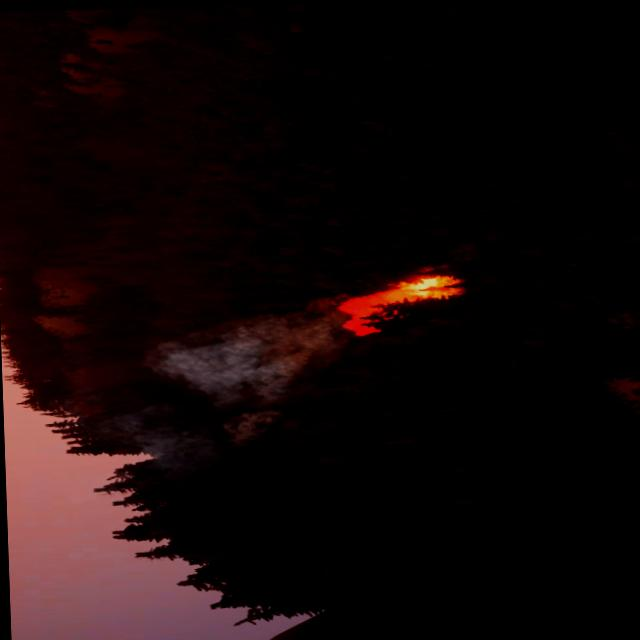fire: (331, 268, 462, 340)
smoke: (82, 304, 338, 478)
